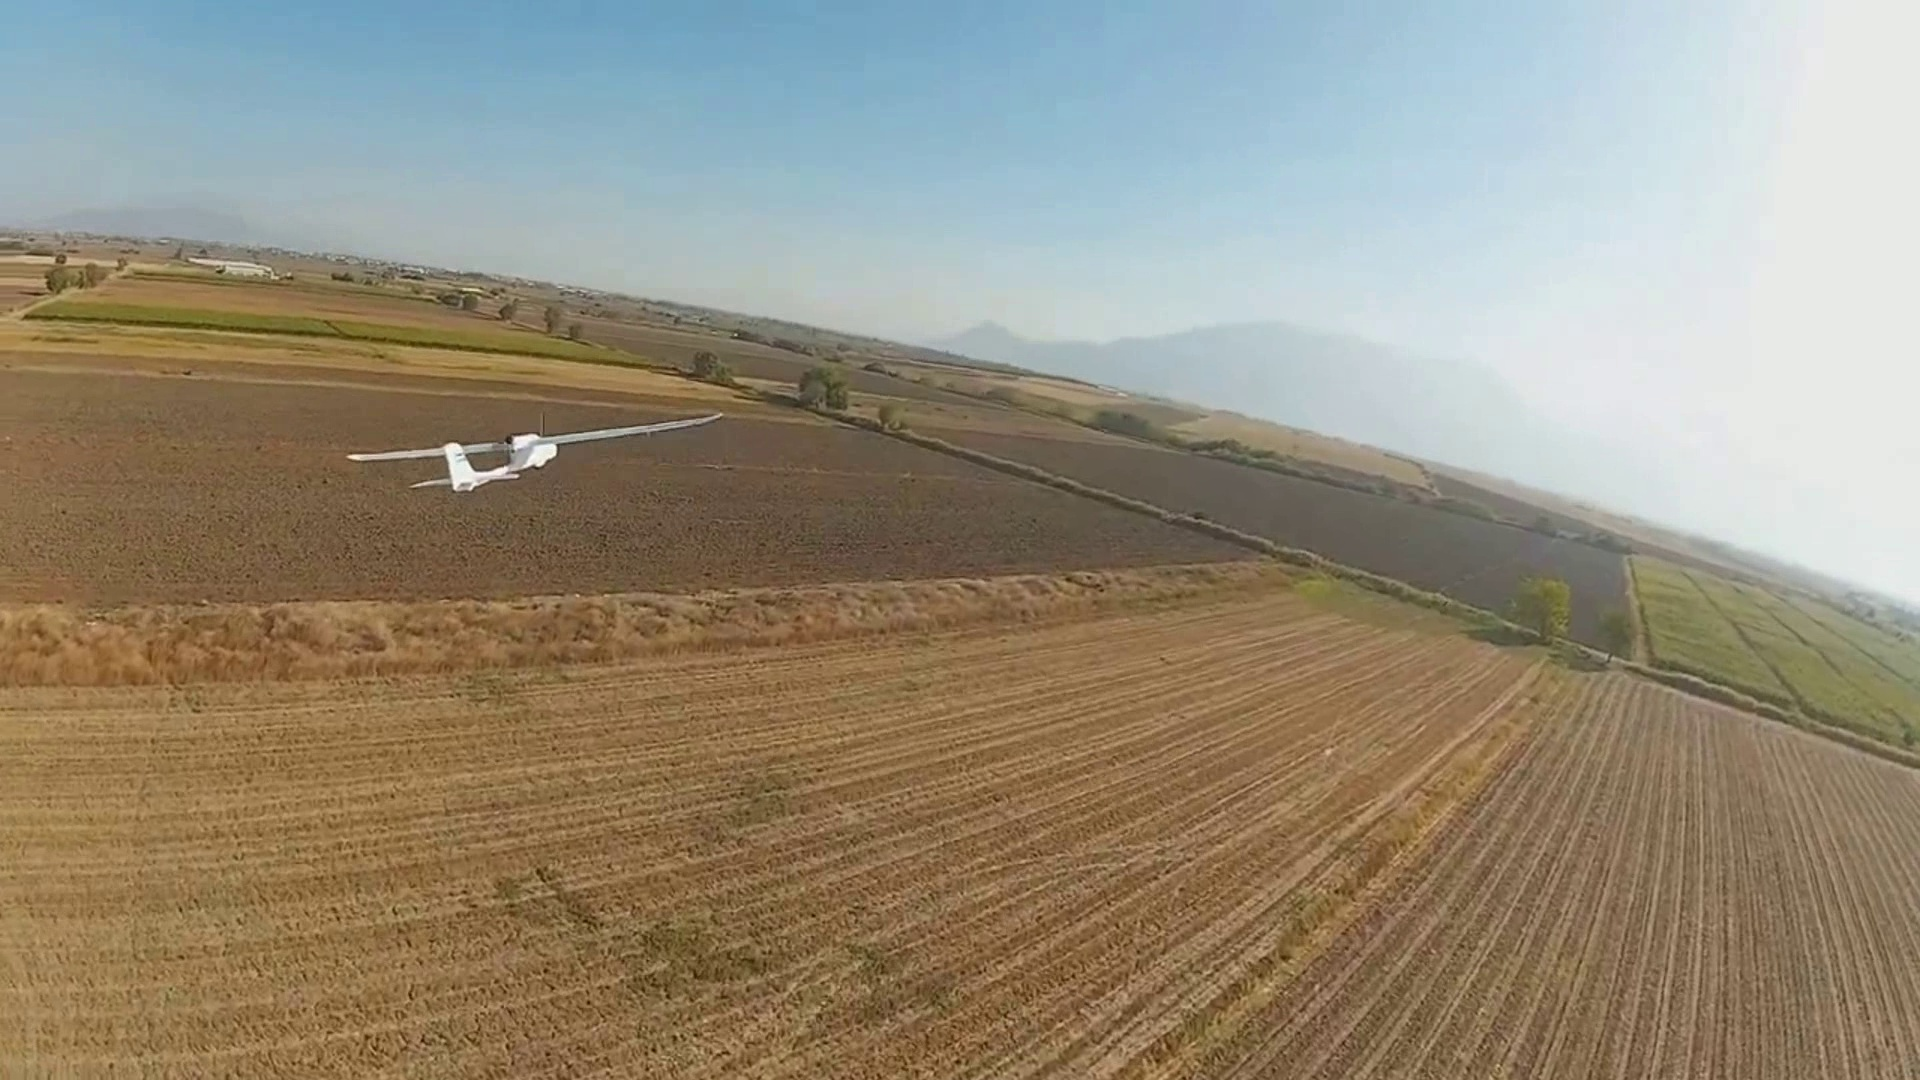airplane: (339, 407, 727, 492), (342, 433, 554, 495)
